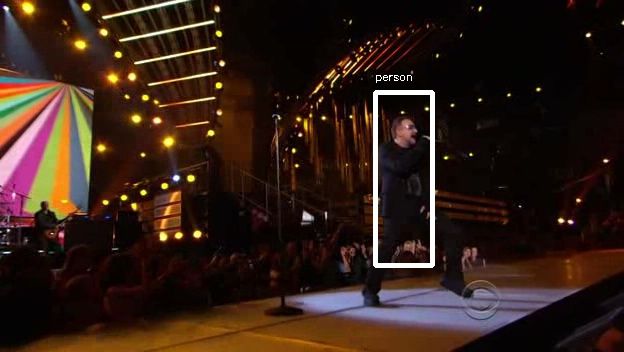person: (376, 122, 446, 247), (373, 122, 443, 247), (379, 122, 449, 247), (376, 119, 446, 244), (376, 125, 446, 250)
target_negative: (216, 69, 480, 350), (261, 237, 580, 342), (275, 43, 336, 274), (303, 313, 437, 343), (323, 4, 327, 310)
